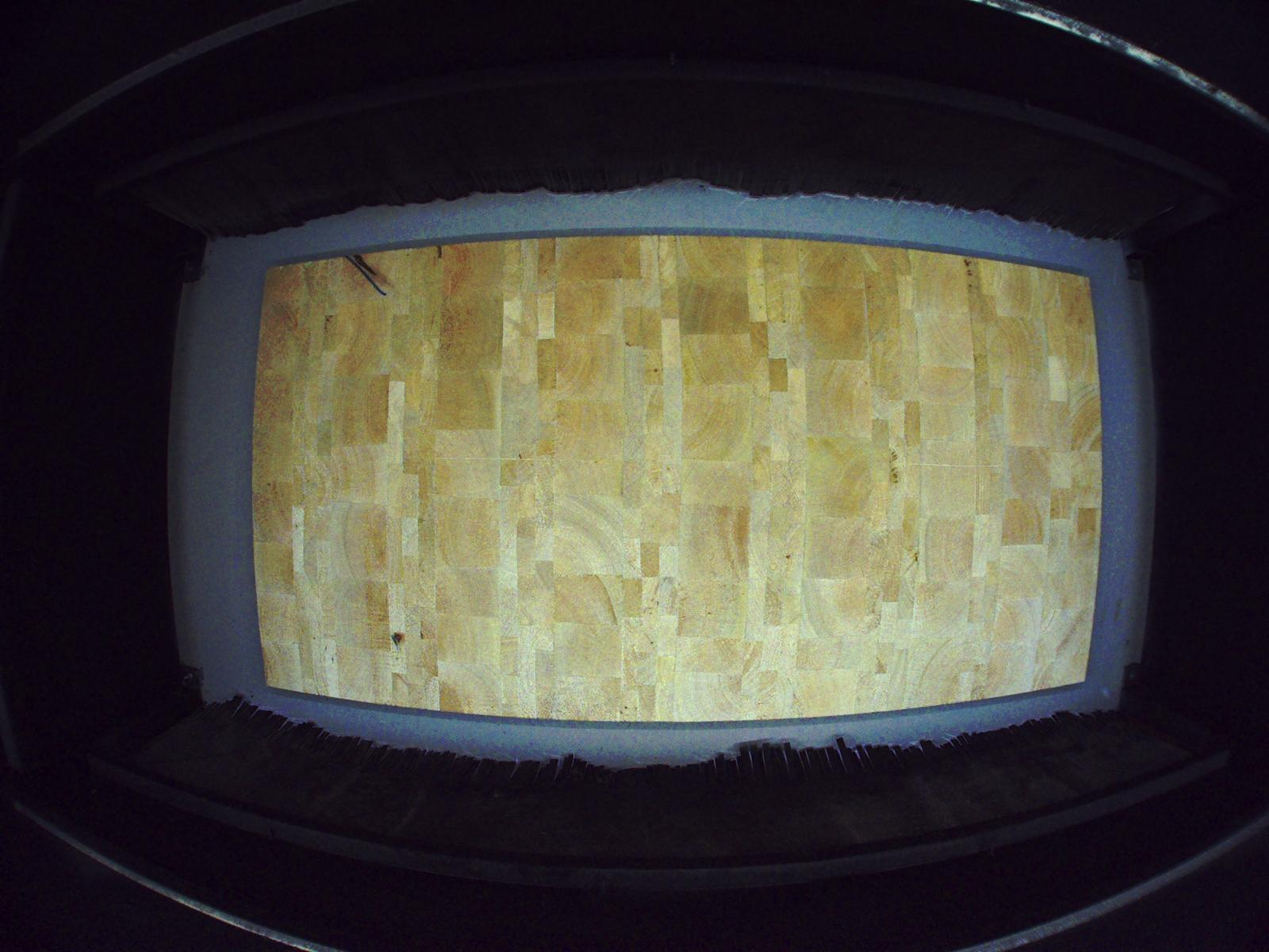nudillo: (394, 632, 406, 646)
